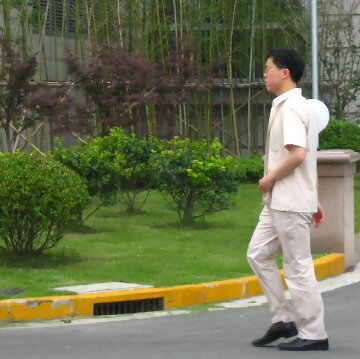person: (237, 47, 343, 352)
